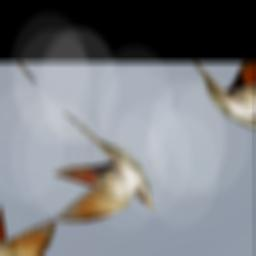Cuckoo: (0, 103, 171, 252)
